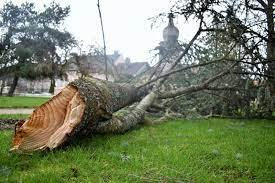Downstairs: (13, 3, 272, 149)
